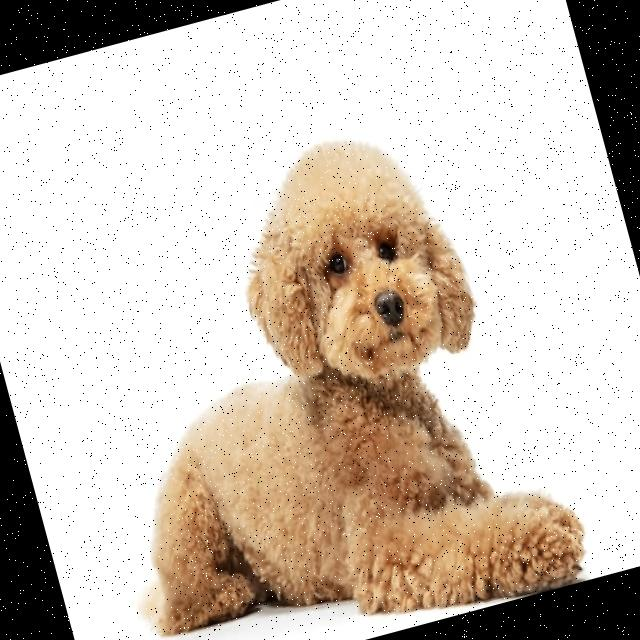Dog: (33, 98, 595, 640)
